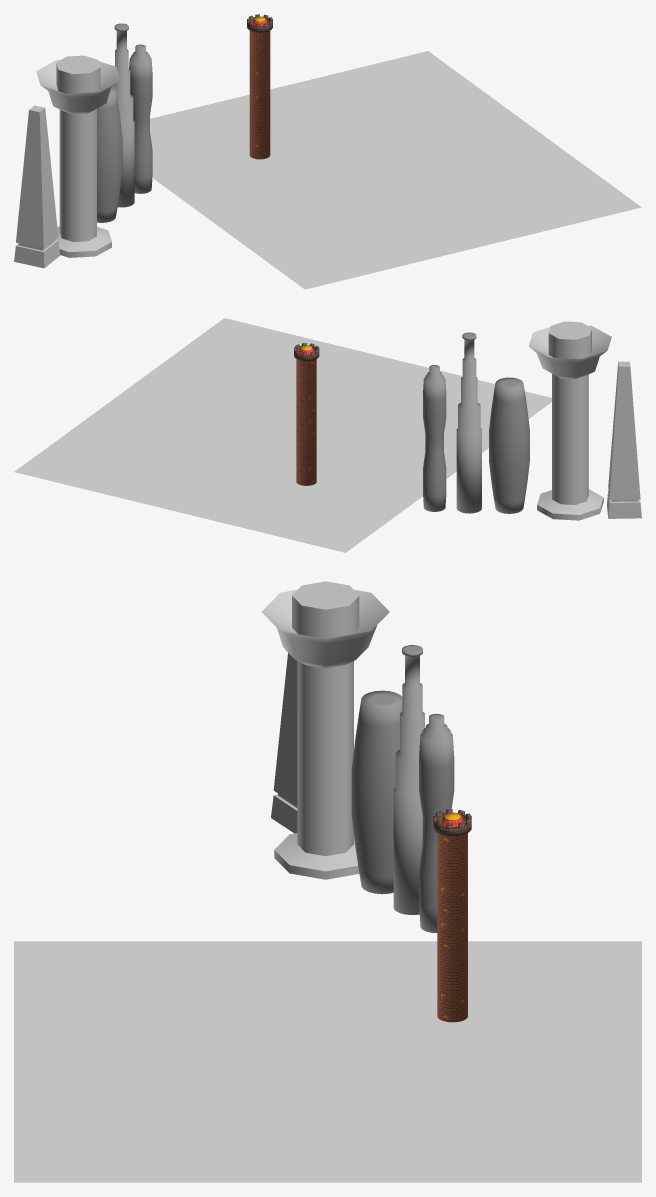
The model's file is Toren_Lava_Level.FBX.
The picture shows the model from 3 angles, top to bottom: view 1: azimuth 30°, elevation 25°; view 2: azimuth 150°, elevation 25°; view 3: azimuth 270°, elevation 25°; orthographic projection. The views are drawn at different scales.
Parts seen in each view (by area): view 1: Plane001, Pillar, pCube9, RoadKillOut003, RoadKillOut, RoadKillOut002, RoadKillOut001; view 2: Plane001, Pillar, RoadKillOut, pCube9, RoadKillOut001, RoadKillOut002, RoadKillOut003; view 3: Plane001, Pillar, RoadKillOut, RoadKillOut003, RoadKillOut001, RoadKillOut002, pCube9.
Boxes of the visible parts, x1,y1,x2,y2 form: Plane001: [150, 51, 641, 289]; Pillar: [36, 55, 120, 257]; pCube9: [14, 105, 60, 268]; RoadKillOut003: [247, 14, 272, 159]; RoadKillOut: [97, 86, 122, 222]; RoadKillOut002: [129, 44, 152, 193]; RoadKillOut001: [113, 23, 134, 207]; Plane001: [14, 318, 551, 552]; Pillar: [529, 321, 611, 520]; RoadKillOut: [489, 377, 529, 513]; pCube9: [607, 361, 641, 518]; RoadKillOut001: [456, 332, 481, 513]; RoadKillOut002: [423, 365, 446, 511]; RoadKillOut003: [294, 343, 319, 485]; Plane001: [14, 941, 641, 1182]; Pillar: [261, 581, 389, 879]; RoadKillOut: [351, 690, 402, 894]; RoadKillOut003: [433, 809, 471, 1022]; RoadKillOut001: [393, 645, 424, 914]; RoadKillOut002: [419, 713, 454, 932]; pCube9: [271, 653, 297, 833].
Bounding box in the file's own units: 3770 × 1224 × 2653.
